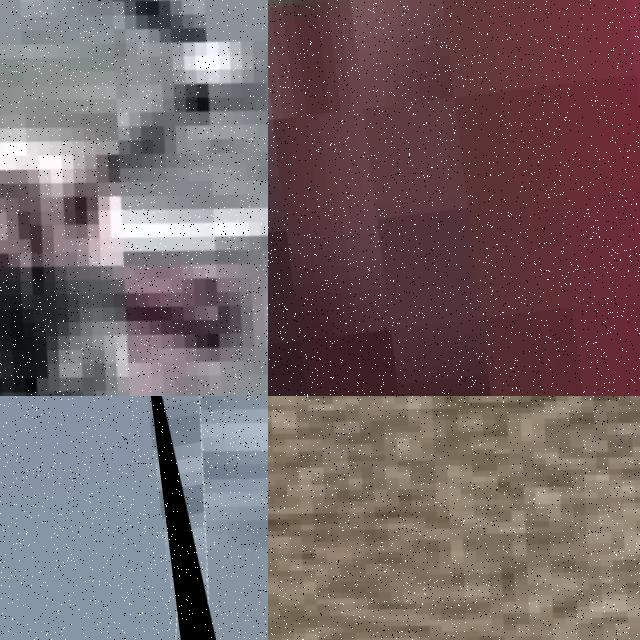0: (0, 0, 268, 396), (137, 396, 268, 640)
drone: (268, 396, 640, 640)
